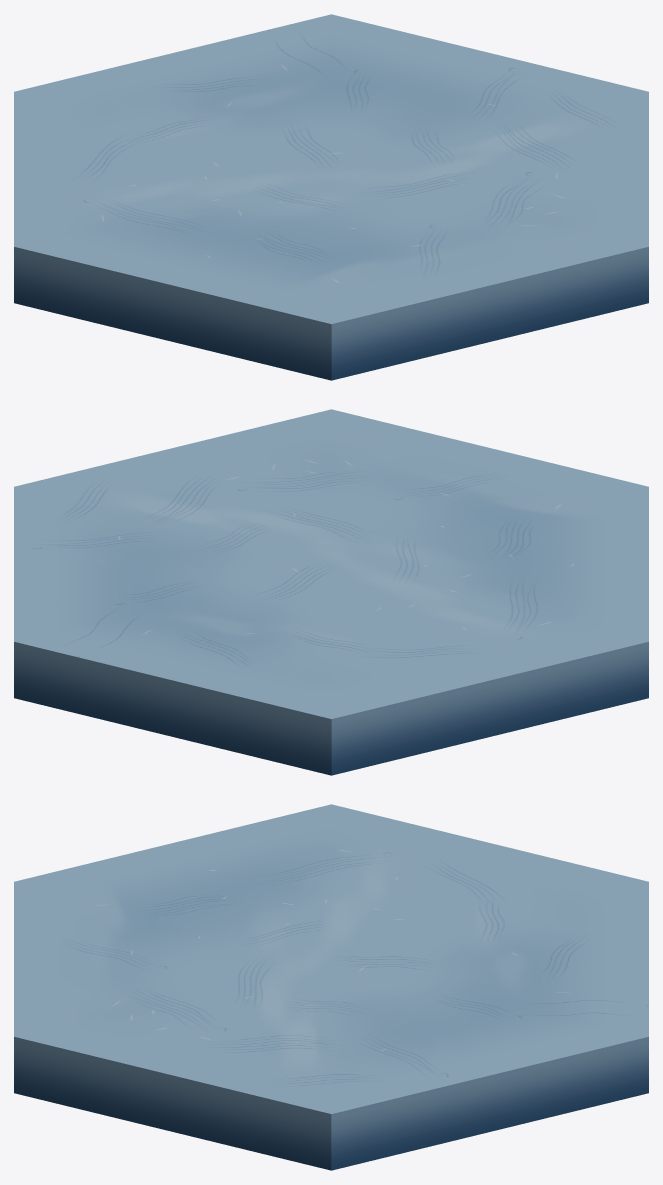
File: Hex_Water.glb
3 renders of one model, top to bottom at view 1: azimuth 30°, elevation 25°; view 2: azimuth 150°, elevation 25°; view 3: azimuth 270°, elevation 25°, orthographic.
Visible parts, largest first — view 1: Hex_Water; view 2: Hex_Water; view 3: Hex_Water.
Part boxes in pixels (x1,y1,x2,y2): Hex_Water: (14, 14, 648, 380); Hex_Water: (14, 409, 648, 775); Hex_Water: (14, 804, 648, 1170).
Size of the model in its own units: 8 by 0.68 by 6.93.
Materials: 1 (1 with a texture image).
